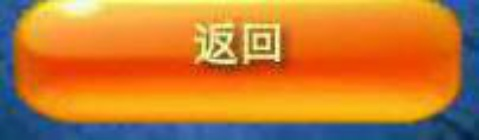Button: (1, 1, 478, 139)
